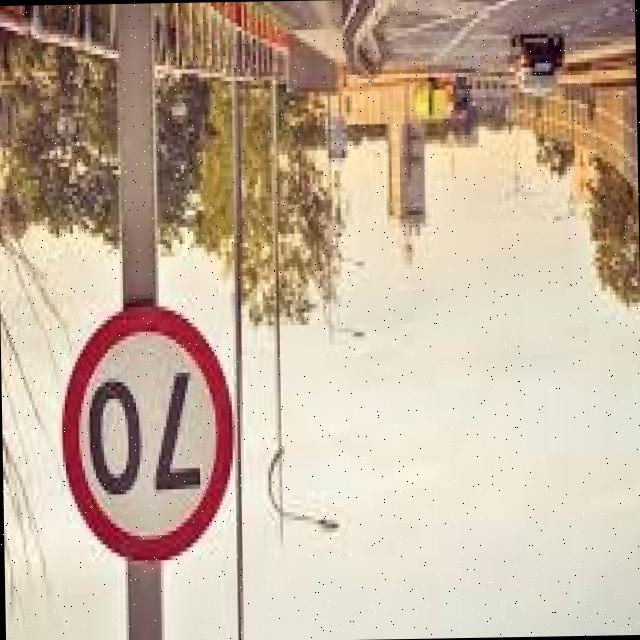speed_limit_70: (52, 295, 235, 574)
